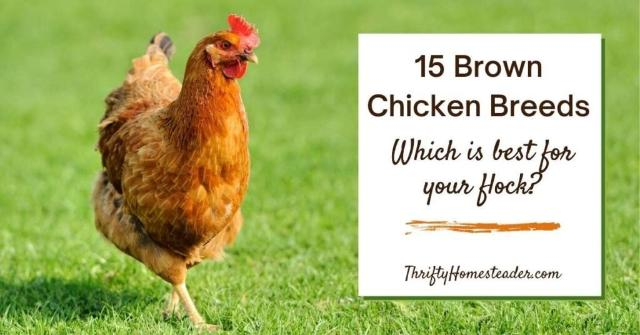Chicken: (92, 10, 263, 330)
